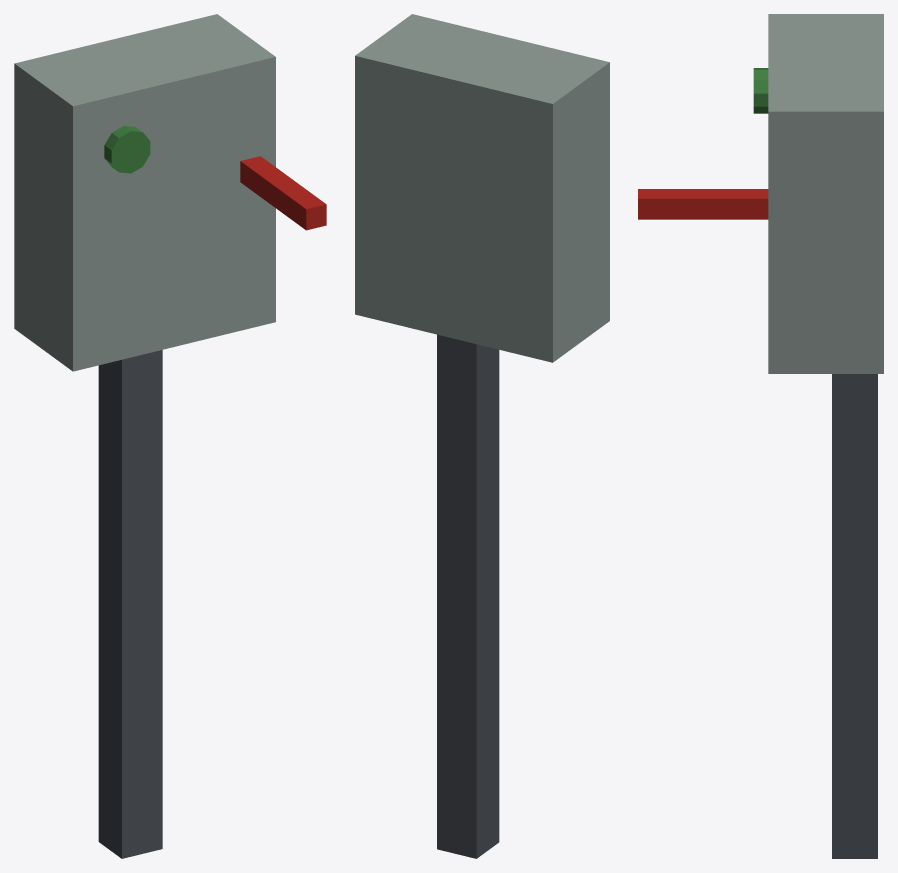
File: substation switch.glb
3 views of the same model, side by side, from view 1: azimuth 30°, elevation 25°; view 2: azimuth 150°, elevation 25°; view 3: azimuth 270°, elevation 25° (orthographic). The views are drawn at different scales.
Visible parts, largest first — view 1: substation switch; view 2: substation switch; view 3: substation switch.
Boxes of the visible parts, left/top/right/bottom form: substation switch: left=14, top=14, right=326, bottom=858; substation switch: left=355, top=14, right=609, bottom=858; substation switch: left=638, top=14, right=883, bottom=858.
Size of the model in its own units: 0.4 by 1.5 by 0.425.
